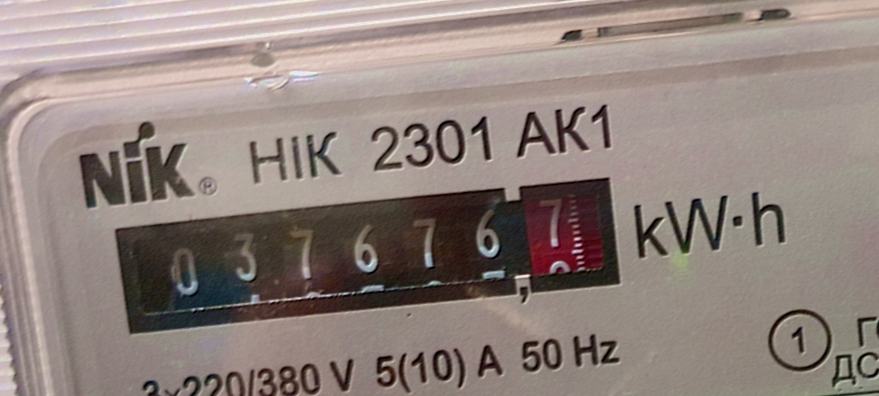0: (166, 241, 206, 300)
3: (228, 227, 262, 286)
6: (347, 218, 385, 276), (470, 204, 505, 262)
7: (408, 213, 446, 274), (286, 223, 323, 283), (537, 193, 570, 252)
screen: (98, 155, 640, 359)
